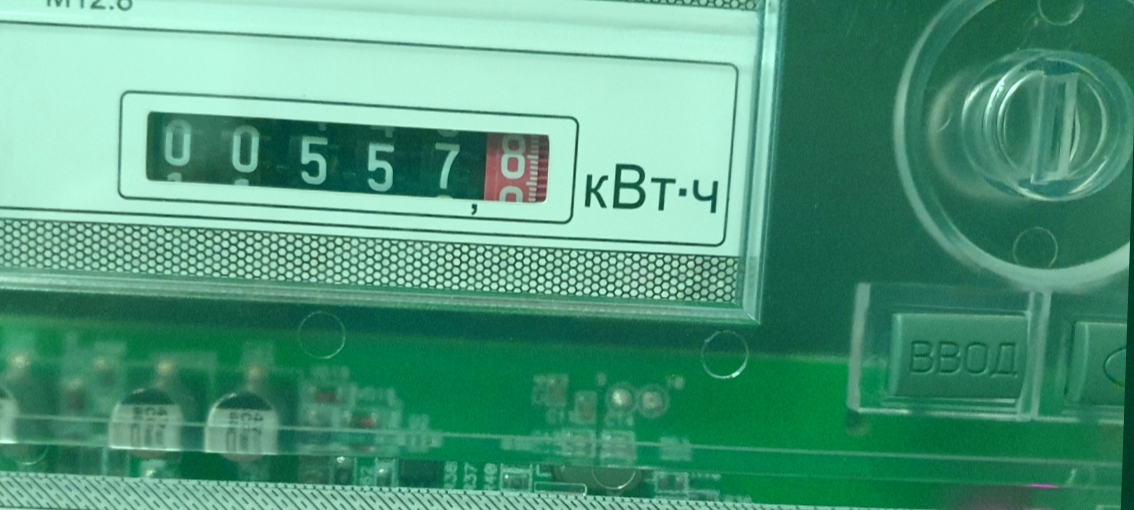0: (157, 112, 194, 169), (225, 120, 261, 173)
5: (359, 134, 399, 193), (293, 129, 330, 187)
7: (425, 135, 460, 191)
8: (497, 131, 526, 181)
screen: (110, 81, 582, 228)
